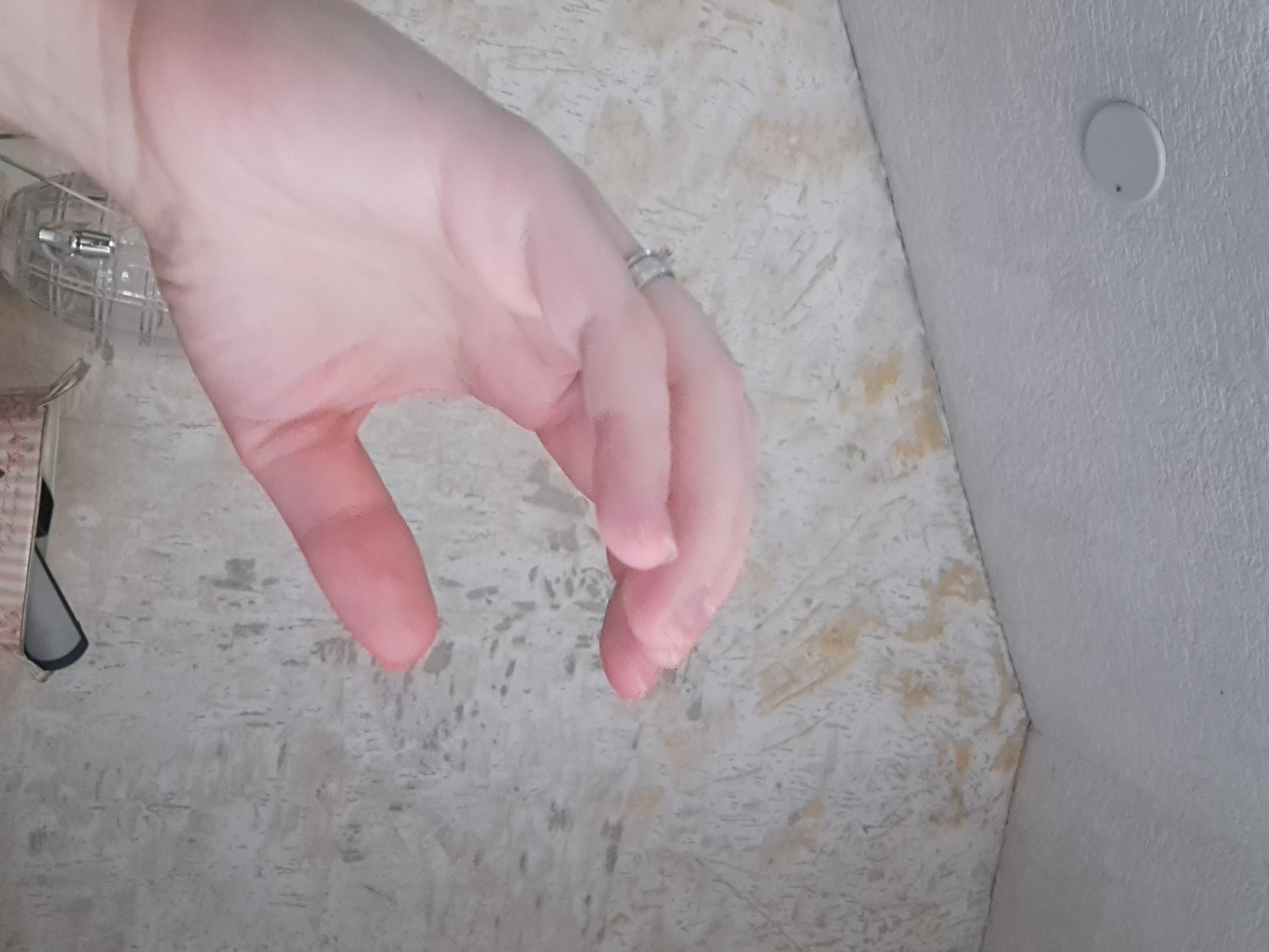C: (0, 365, 954, 840)
